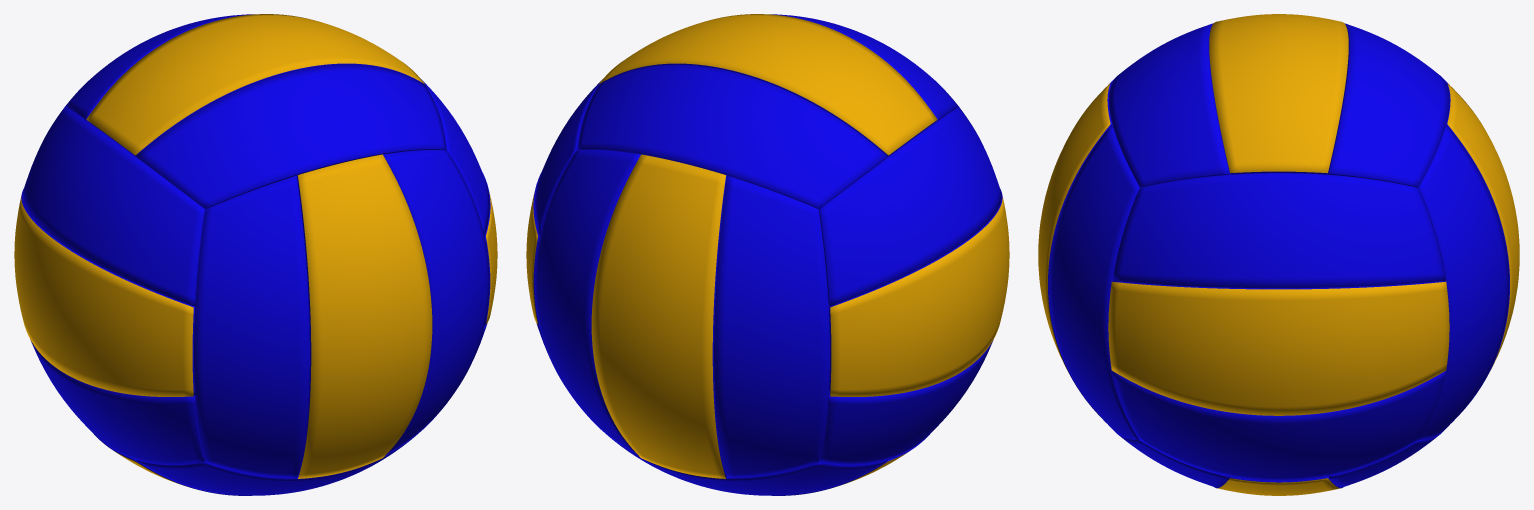
The model's file is Volley_ball.fbx.
The picture shows the model from 3 angles, left to right: view 1: azimuth 30°, elevation 25°; view 2: azimuth 150°, elevation 25°; view 3: azimuth 270°, elevation 25°; orthographic projection.
Parts seen in each view (by area): view 1: VolleyBall; view 2: VolleyBall; view 3: VolleyBall.
Part boxes in pixels (left/top/right/bottom): VolleyBall: left=14, top=14, right=497, bottom=495; VolleyBall: left=526, top=14, right=1009, bottom=495; VolleyBall: left=1038, top=14, right=1519, bottom=495.
Bounding box in the file's own units: 64.97 × 64.97 × 64.97.
